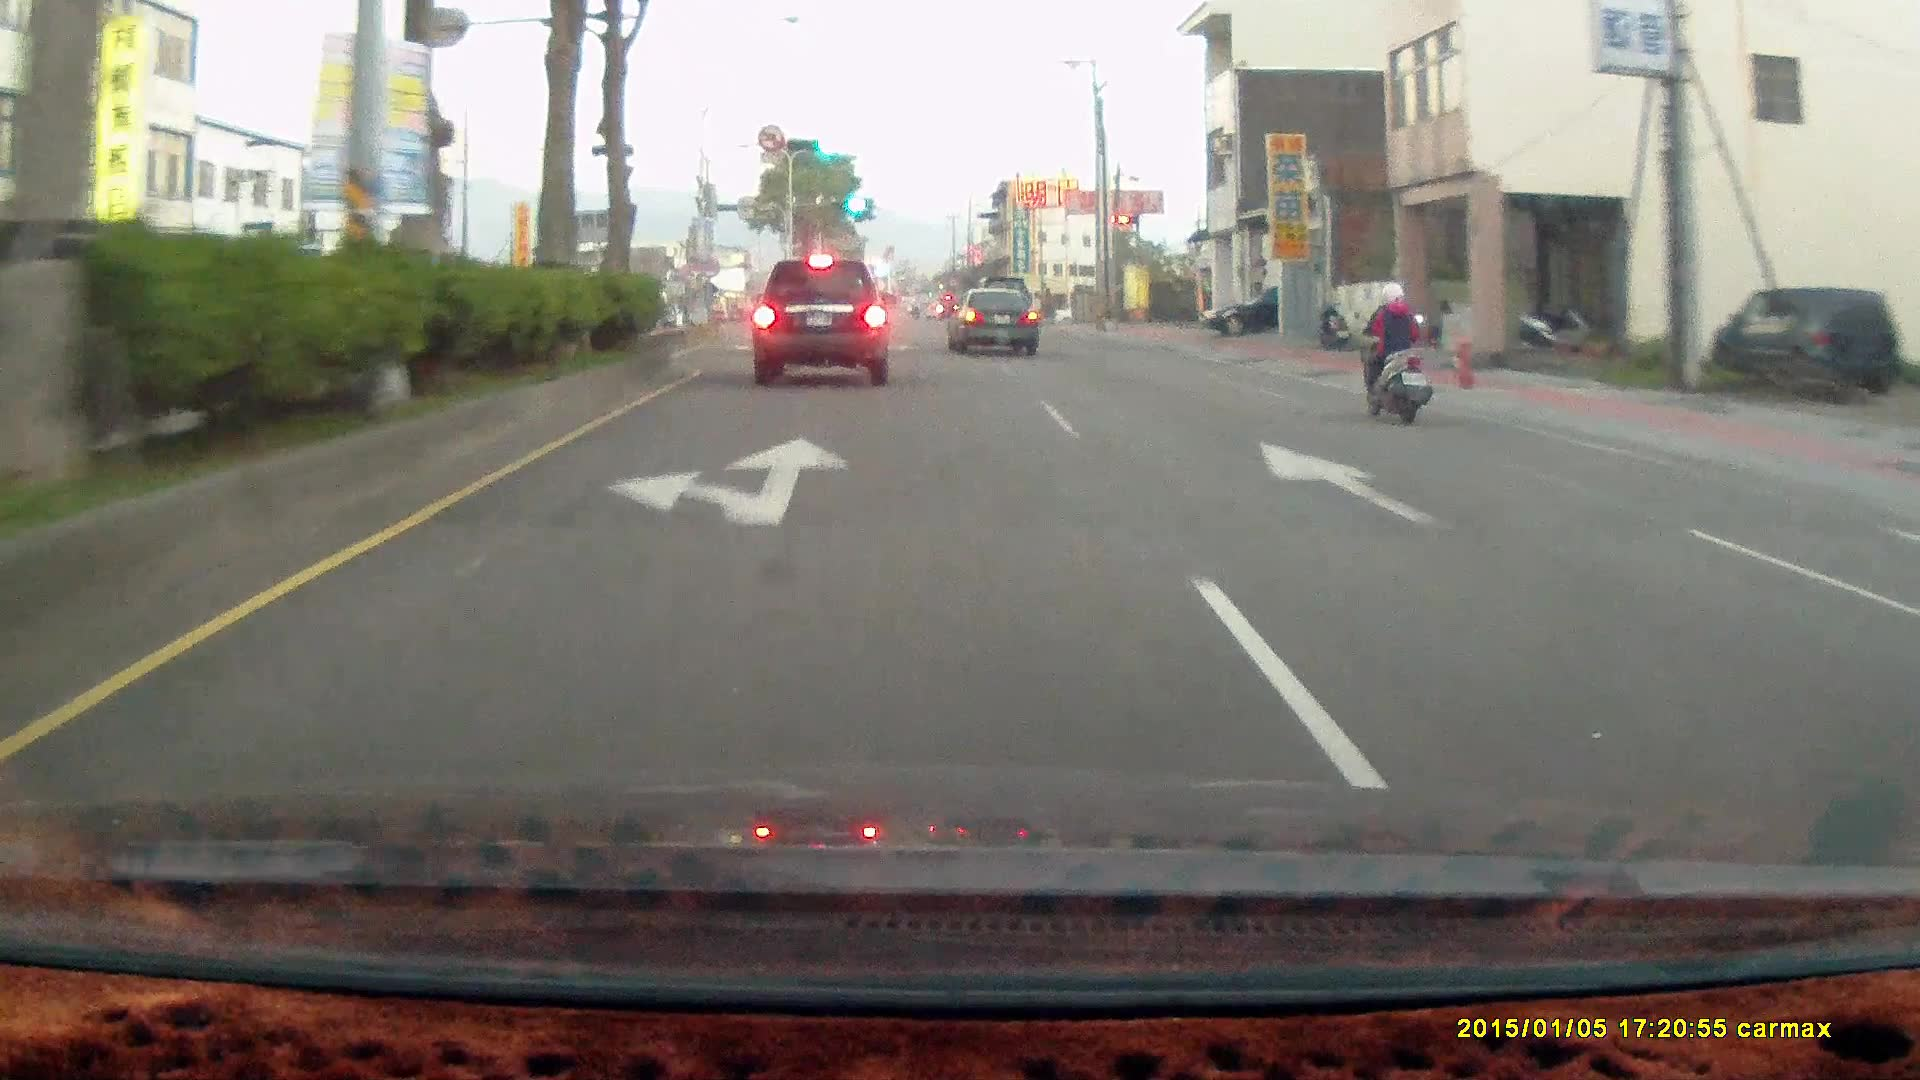rider: (1345, 270, 1448, 433), (1357, 287, 1433, 435)
vehicle: (1713, 284, 1898, 394), (1711, 286, 1898, 395), (751, 260, 894, 391), (752, 260, 896, 387), (1201, 286, 1343, 339), (949, 289, 1044, 357), (946, 288, 1038, 354), (1201, 286, 1283, 340)
